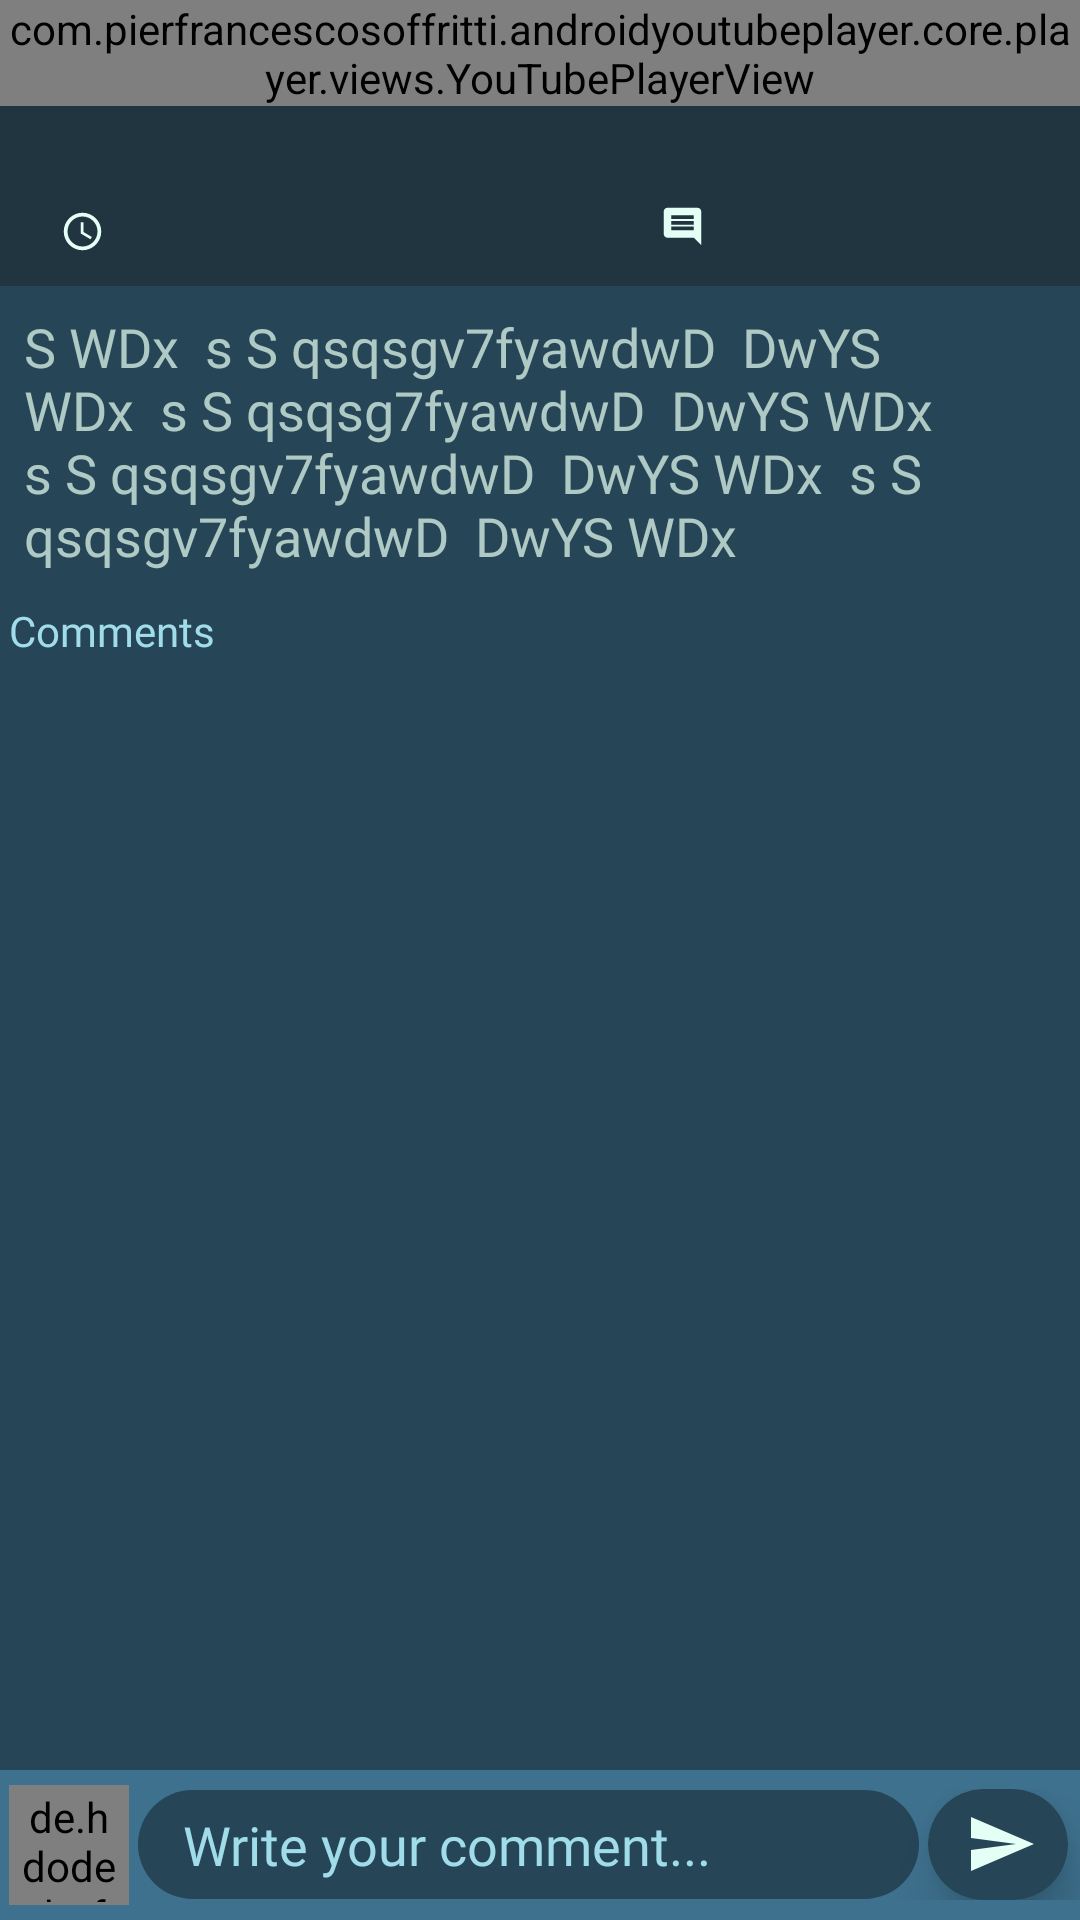

Where icons sit on this 1080 × 1920 app screen, as (x1, y1, x2, y2):
access time: (63, 212, 102, 251)
comment: (663, 207, 702, 245)
send: (971, 1817, 1034, 1871)
